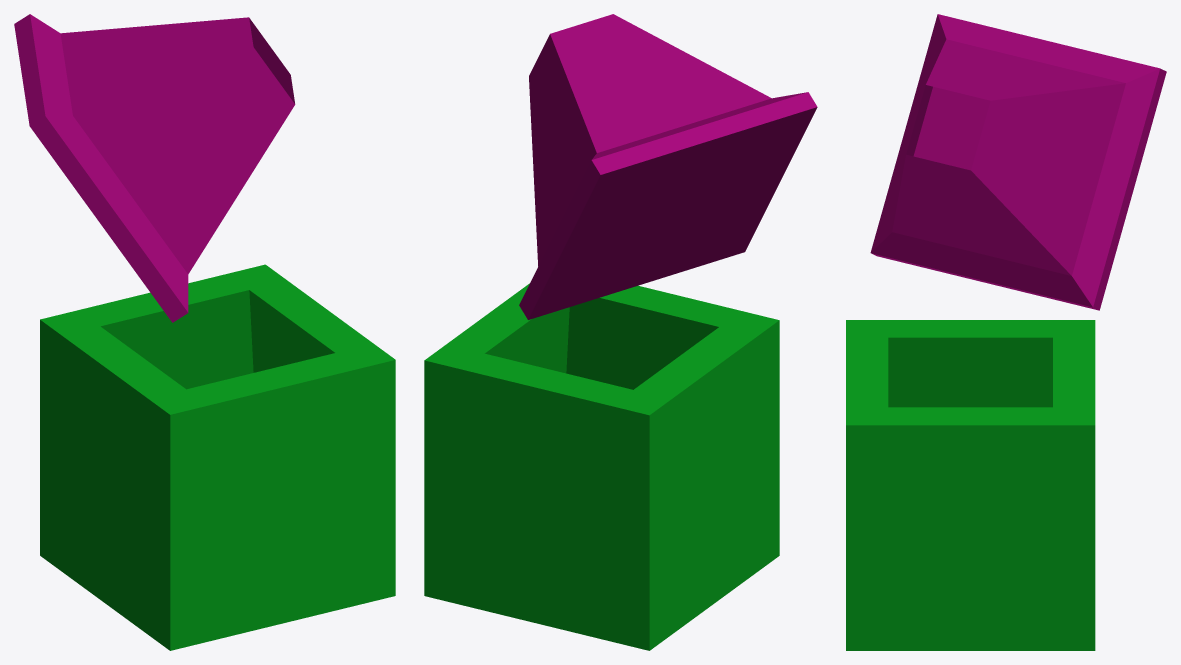
The model's file is AnimatedBox_000099.obj.
The picture shows the model from 3 angles, left to right: view 1: azimuth 30°, elevation 25°; view 2: azimuth 150°, elevation 25°; view 3: azimuth 270°, elevation 25°; orthographic projection. The views are drawn at different scales.
Visible parts, largest first — view 1: Cube, Cube.001; view 2: Cube, Cube.001; view 3: Cube, Cube.001.
Boxes of the visible parts, x1,y1,x2,y2 form: Cube: [40, 264, 395, 650]; Cube.001: [14, 14, 295, 322]; Cube: [424, 283, 779, 650]; Cube.001: [519, 14, 817, 319]; Cube: [846, 320, 1095, 650]; Cube.001: [870, 14, 1166, 310].
Size of the model in its own units: 2.79 by 4.6 by 2.57.
